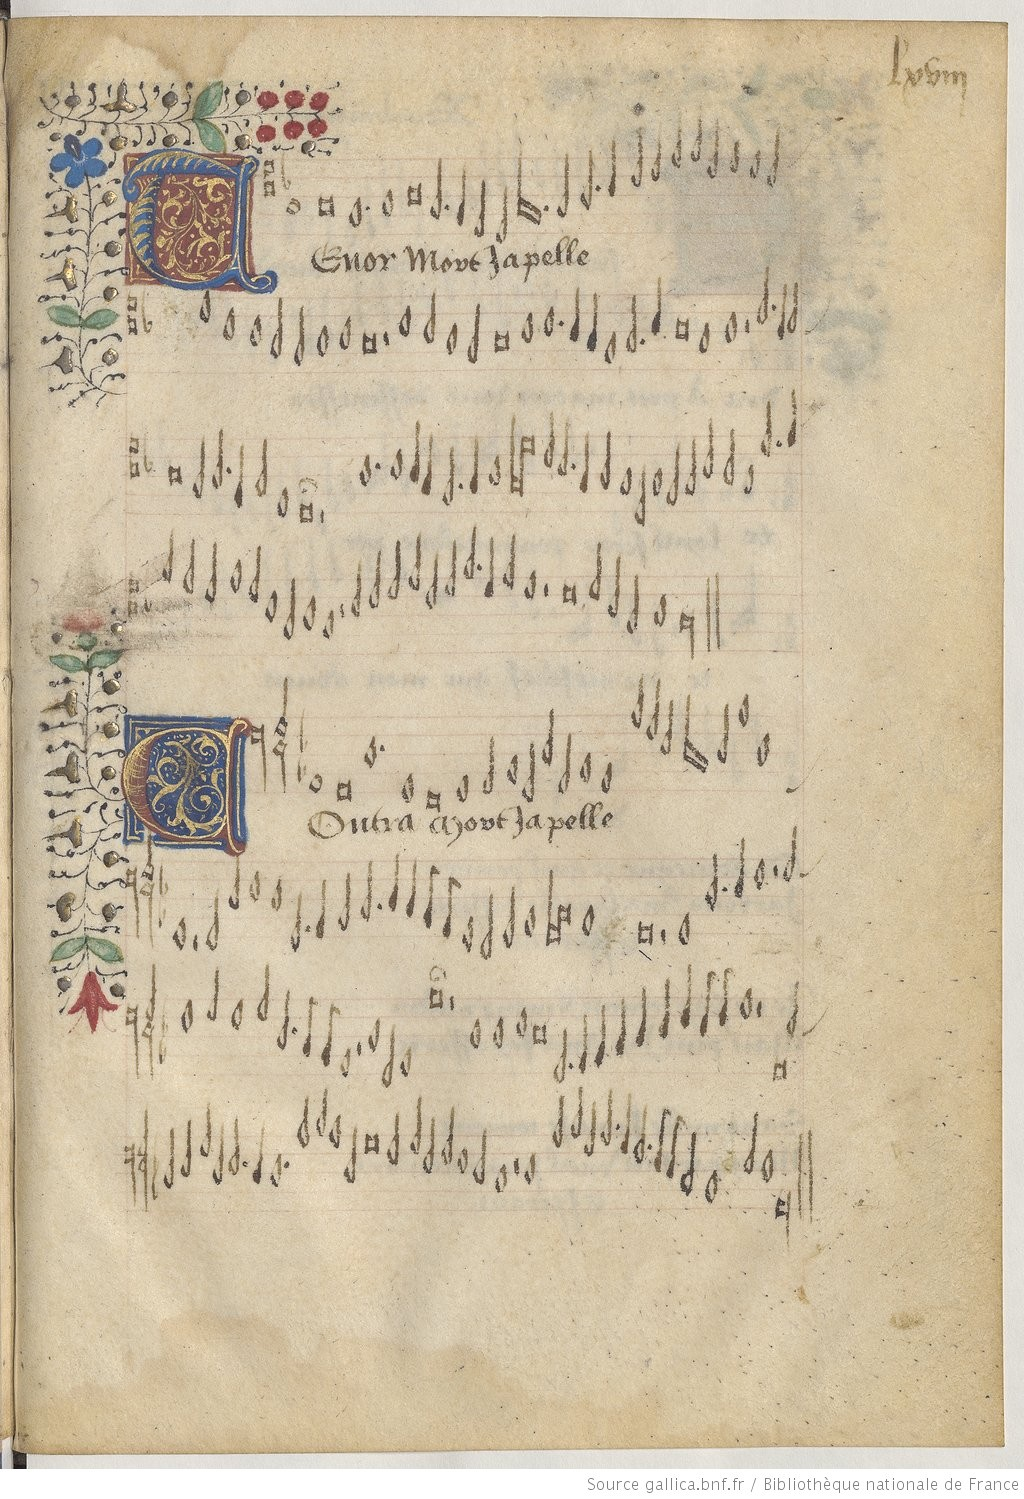Pmin: (279, 189, 306, 226)
breve_7: (402, 177, 428, 214)
breve_8: (312, 188, 342, 224)
c clef_5: (259, 149, 279, 204)
custos_4: (790, 137, 819, 177)
flat_6: (275, 145, 294, 196)
minim_10: (470, 174, 489, 241)
minim_11: (493, 180, 510, 247)
minim_2: (685, 105, 708, 167)
minim_3: (667, 110, 686, 177)
minim_4: (646, 121, 665, 188), (705, 115, 723, 186)
minim_5: (763, 121, 784, 191), (626, 122, 645, 195)
minim_7: (577, 144, 597, 218)
minim_8: (552, 148, 573, 226), (425, 154, 447, 227)
o1semibreve_8: (513, 149, 529, 230)
o2semibreve_9: (531, 148, 544, 230)
point: (358, 195, 376, 218), (439, 196, 454, 220), (591, 177, 607, 200), (538, 196, 552, 219)
semibreve_3: (723, 130, 747, 177)
semibreve_4: (745, 141, 765, 183)
semibreve_8: (376, 181, 400, 226)
semibreve_9: (342, 186, 367, 237)
semiminim_6: (604, 136, 624, 207)
semiminim_9: (453, 159, 470, 232)
